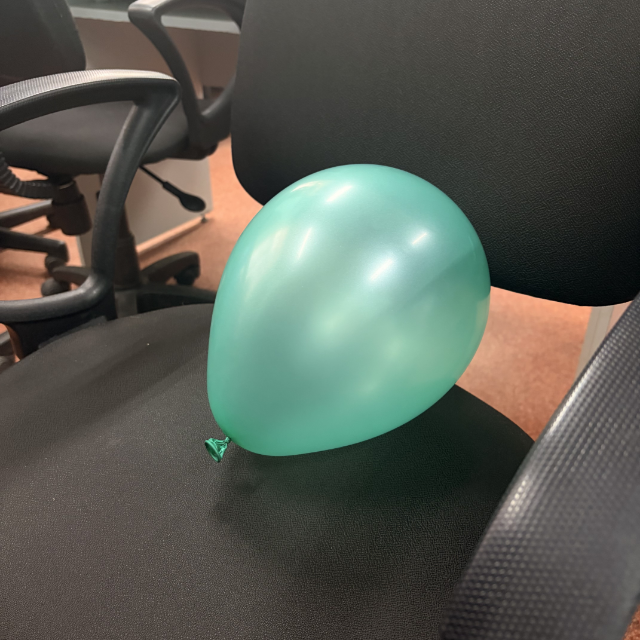balloon: (204, 163, 491, 463)
